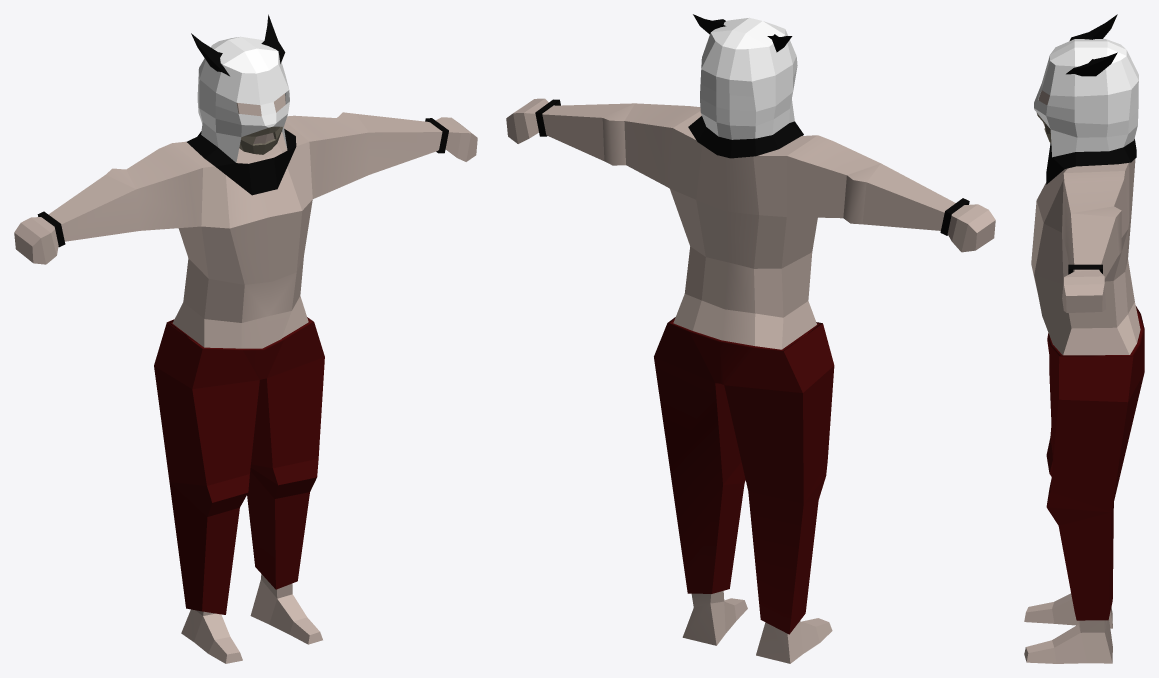
File: Brute.fbx
3 views of the same model, side by side, from view 1: azimuth 30°, elevation 25°; view 2: azimuth 150°, elevation 25°; view 3: azimuth 270°, elevation 25° (orthographic). The views are drawn at different scales.
Visible parts, largest first — view 1: Brute5; view 2: Brute5; view 3: Brute5.
Part boxes in pixels (x1,y1,x2,y2): Brute5: [14, 14, 477, 663]; Brute5: [506, 14, 995, 663]; Brute5: [1024, 14, 1144, 663].
Bounding box in the file's own units: 1.7 × 2.16 × 0.3908.
